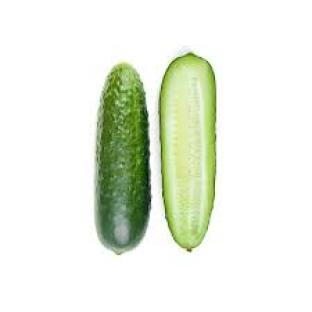Cucumber: (160, 55, 216, 249), (96, 64, 149, 253)
